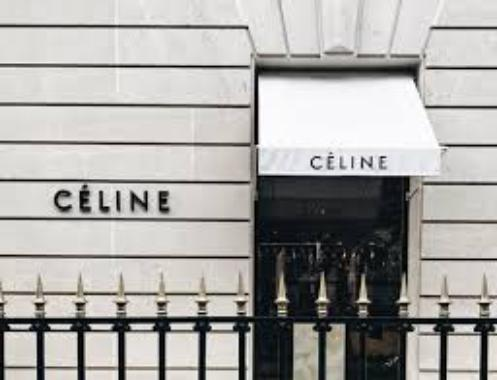CELINE: (33, 163, 176, 221), (304, 150, 394, 175)
